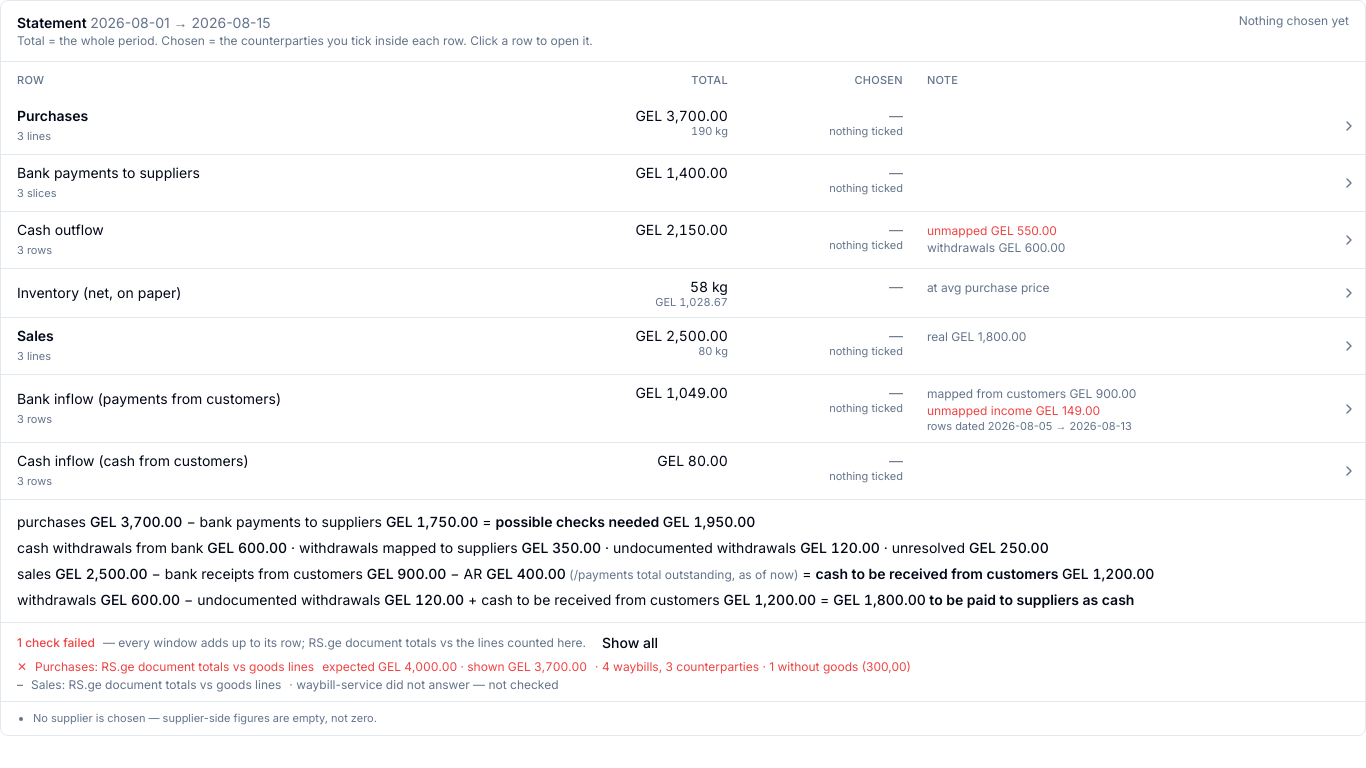
StatementSection › opens inventory levels with the LIFO supplier attribution
The image size is (1366, 768).
Click the button with aria-label "Inventory (net, on paper) — open".
click(99, 293)  # box [17,283,181,303]
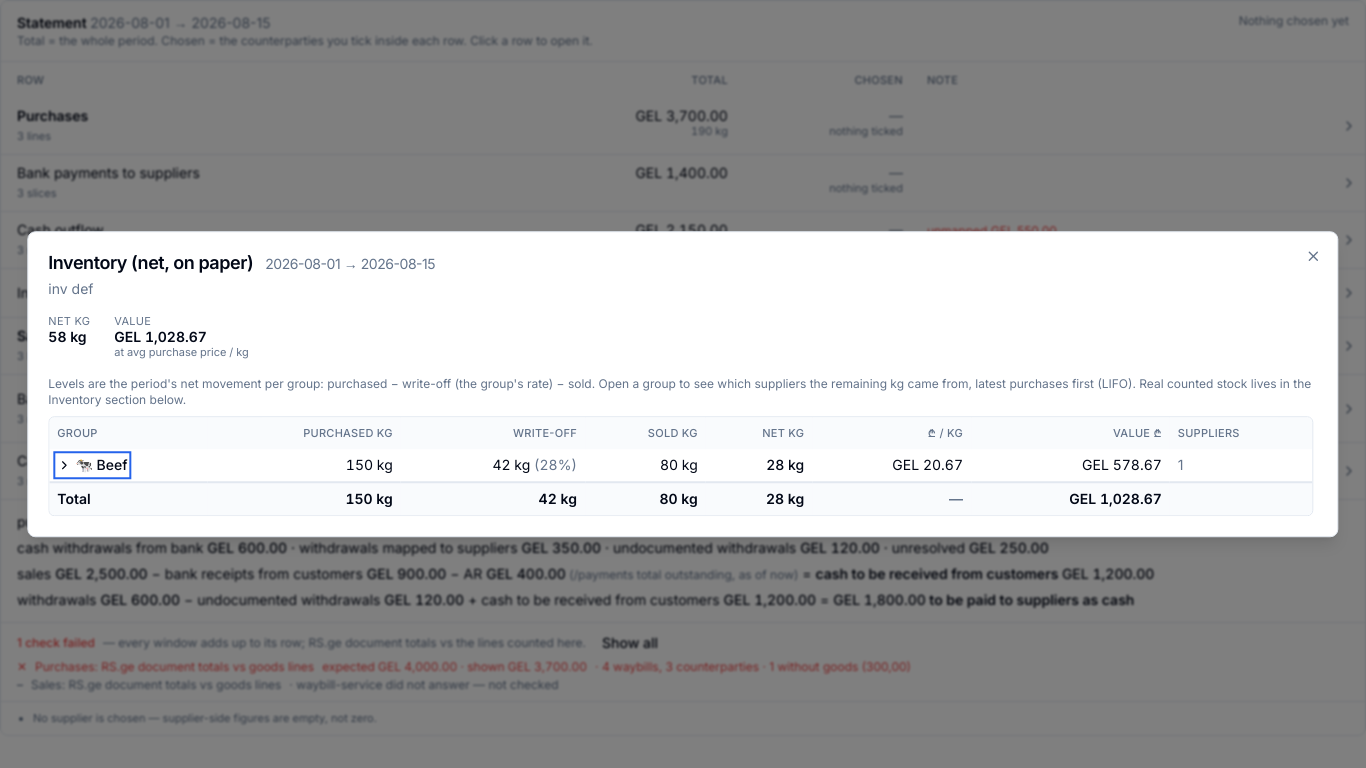
Click the button "🐄 Beef".
click(92, 465)  # box [57,455,128,475]
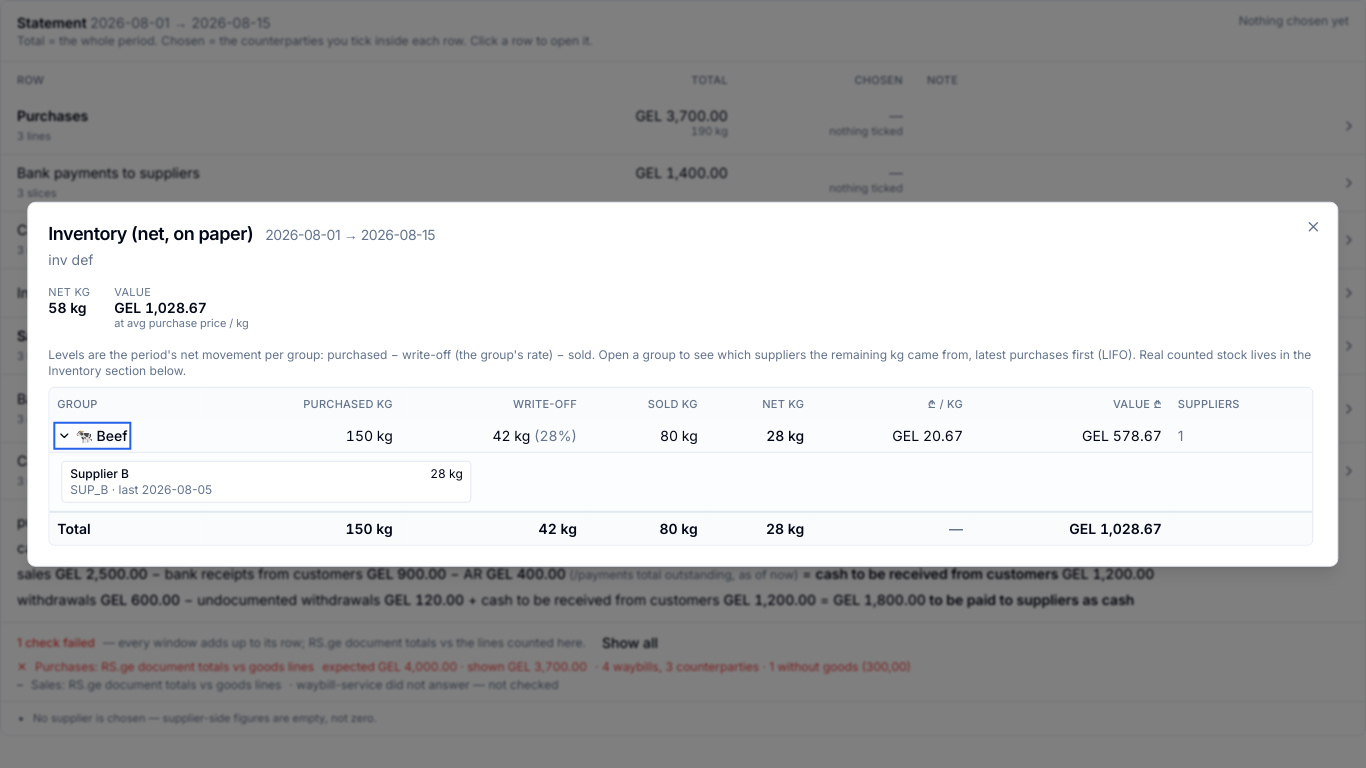
Result: the text "Supplier B" is shown at [70,465,129,480]
Result: the text "SUP_B · last 2026-08-05" is shown at [70,481,212,496]
